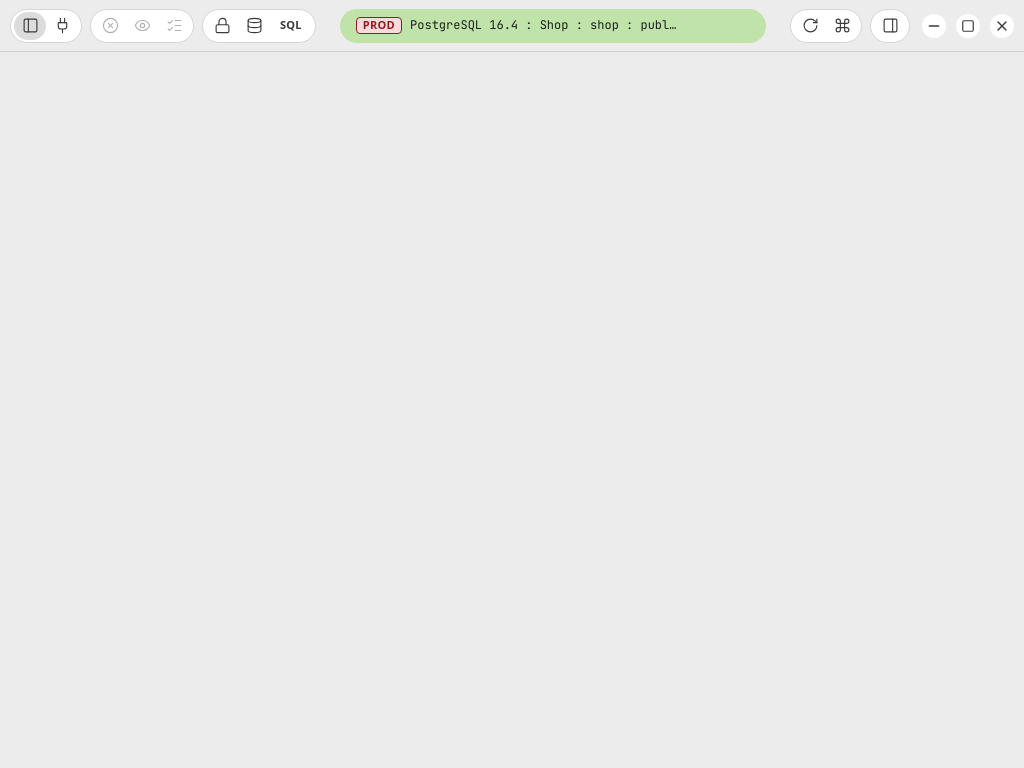
Scenario: the space around the status pill moves and maximizes the window
Double-click the element showing "PROD PostgreSQL 16.4 : Shop : shop : public.orders".
double_click(553, 26)  # box [324,8,782,42]
Note: The pill itself still opens the connection popover, and never moves the window.
Click the button "PROD PostgreSQL 16.4 : Shop : shop : public.orders".
click(553, 26)  # box [340,8,766,42]
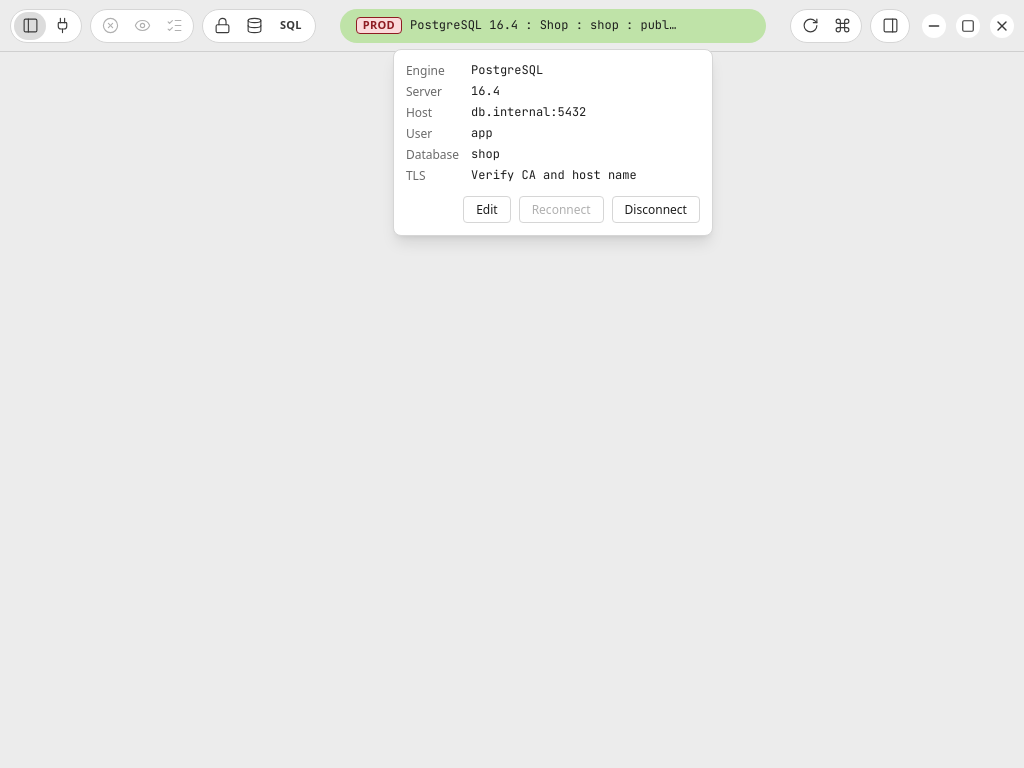
Expected: the dialog named "Connection details" is shown, [393,48,713,236]
